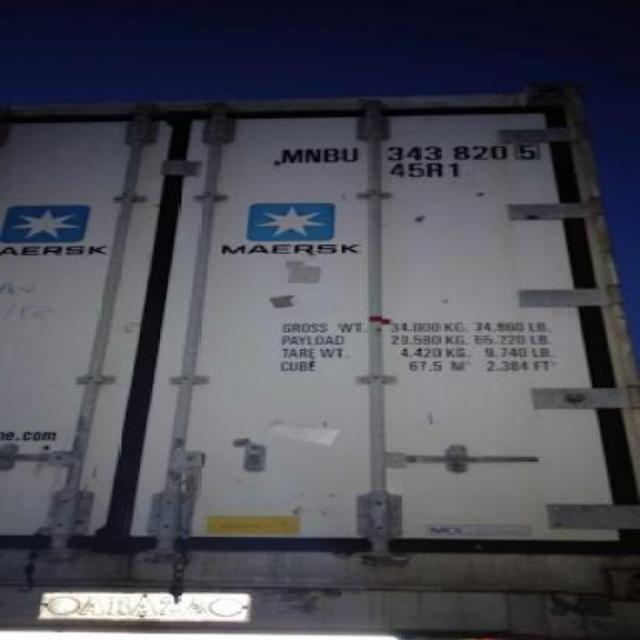0: (490, 144, 508, 160)
2: (472, 144, 490, 160)
3: (386, 145, 404, 161), (424, 144, 442, 160)
4: (402, 143, 426, 161)
5: (518, 144, 534, 160)
8: (456, 144, 469, 160)
B: (324, 147, 342, 163)
M: (280, 146, 304, 164)
N: (304, 146, 324, 164)
U: (341, 147, 362, 163)
